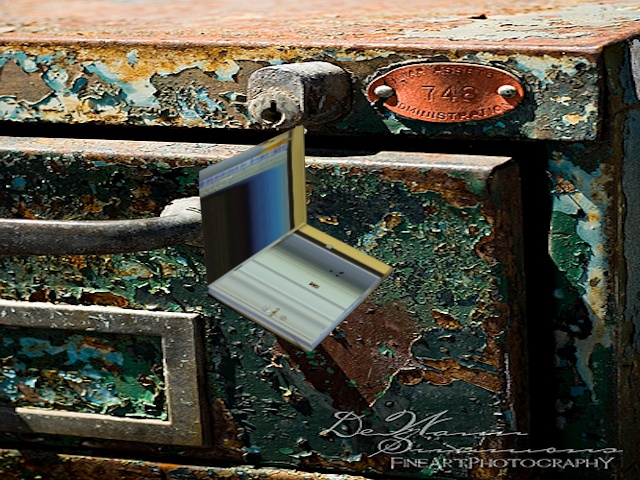laptop_computer: (193, 112, 400, 384)
